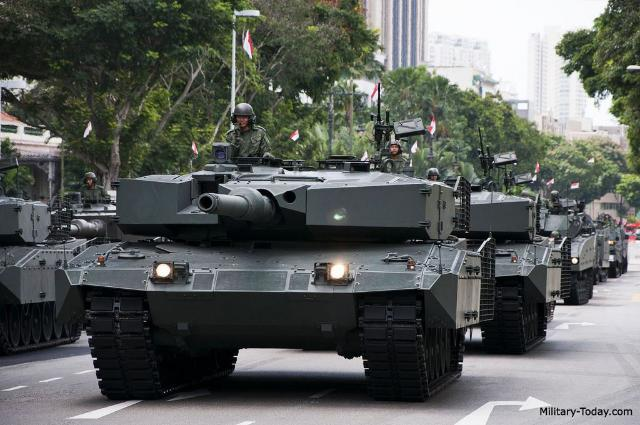other: (227, 103, 270, 158), (81, 169, 109, 200), (382, 139, 404, 169)
tank: (84, 155, 486, 388), (463, 182, 552, 345), (0, 194, 92, 351), (546, 199, 594, 294)
